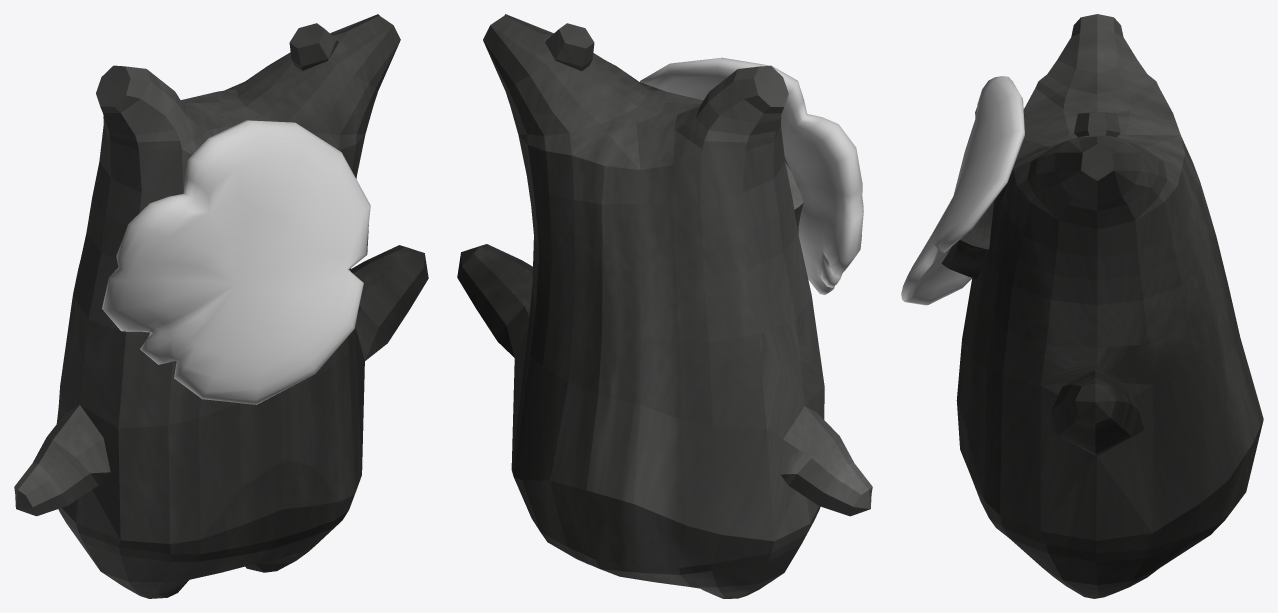
Rendered from frame_0074.obj.
3 renders of one model, left to right at view 1: azimuth 30°, elevation 25°; view 2: azimuth 150°, elevation 25°; view 3: azimuth 270°, elevation 25°, orthographic. The views are drawn at different scales.
Parts seen in each view (by area): view 1: korok, leaf; view 2: korok, leaf; view 3: korok, leaf, nose.
Boxes of the visible parts, x1=… form: korok: x1=14, y1=14, x2=428, y2=598; leaf: x1=102, y1=120, x2=370, y2=404; korok: x1=457, y1=14, x2=872, y2=598; leaf: x1=640, y1=57, x2=863, y2=294; korok: x1=956, y1=14, x2=1263, y2=598; leaf: x1=901, y1=76, x2=1024, y2=305; nose: x1=941, y1=201, x2=993, y2=278.
Size of the model in its own units: 1.72 by 2.16 by 1.38.
